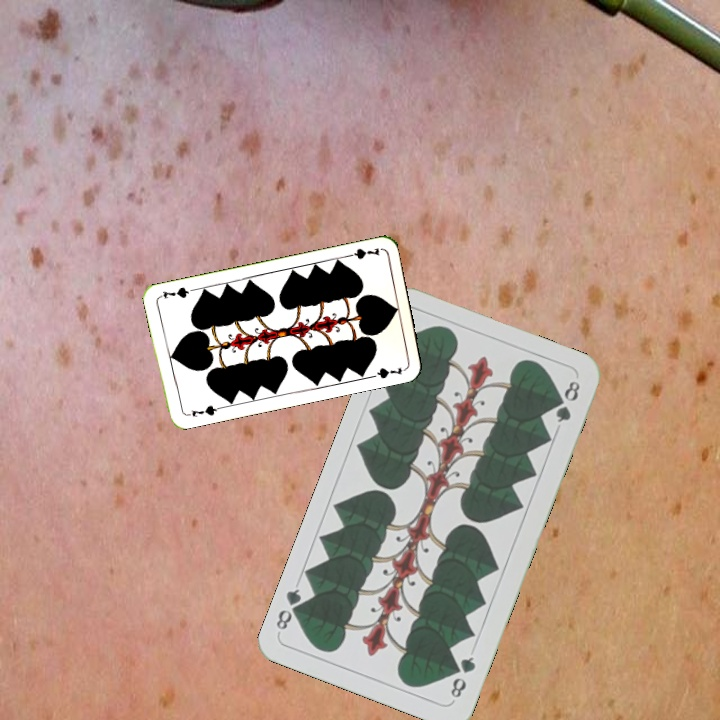G7: (341, 243, 382, 262), (182, 401, 222, 420)
G8: (446, 652, 478, 704)
